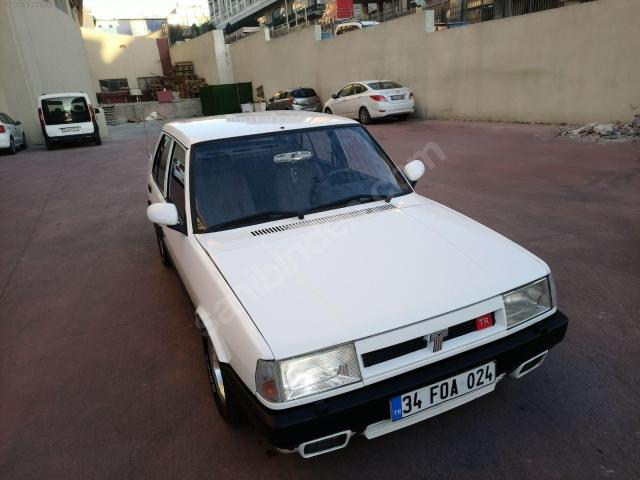plaka: (391, 360, 495, 422)
